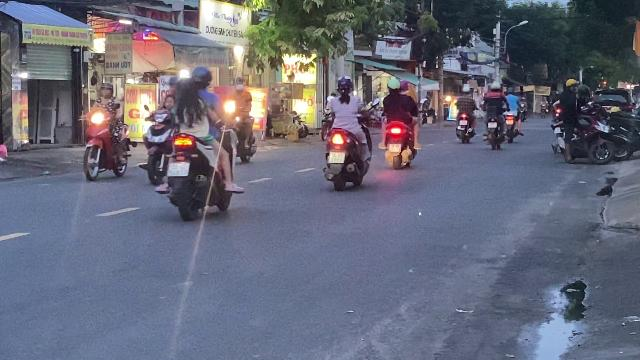helmet: (188, 65, 212, 89), (334, 76, 354, 98), (386, 76, 402, 92), (98, 82, 114, 98)
licenseplate: (168, 162, 188, 176), (329, 152, 345, 164)
motorcyclist: (161, 64, 241, 220), (321, 76, 372, 190), (80, 81, 132, 180), (378, 76, 420, 170)
nohelmet: (174, 76, 198, 104)
